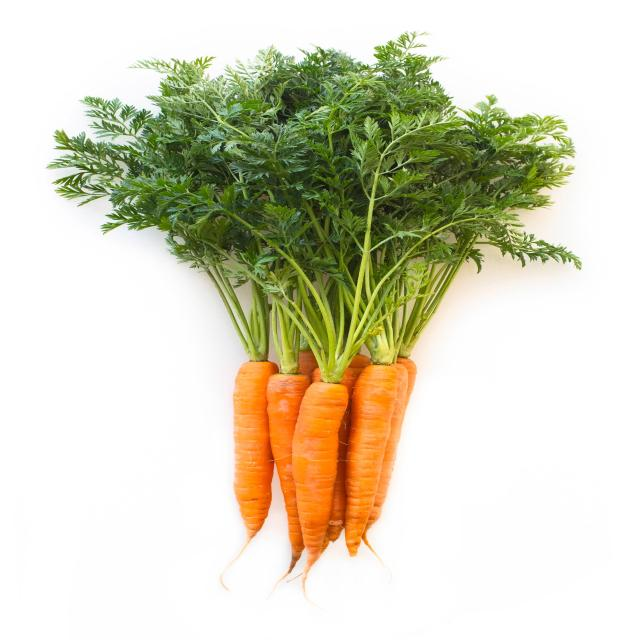Carrot: (227, 357, 284, 541)
